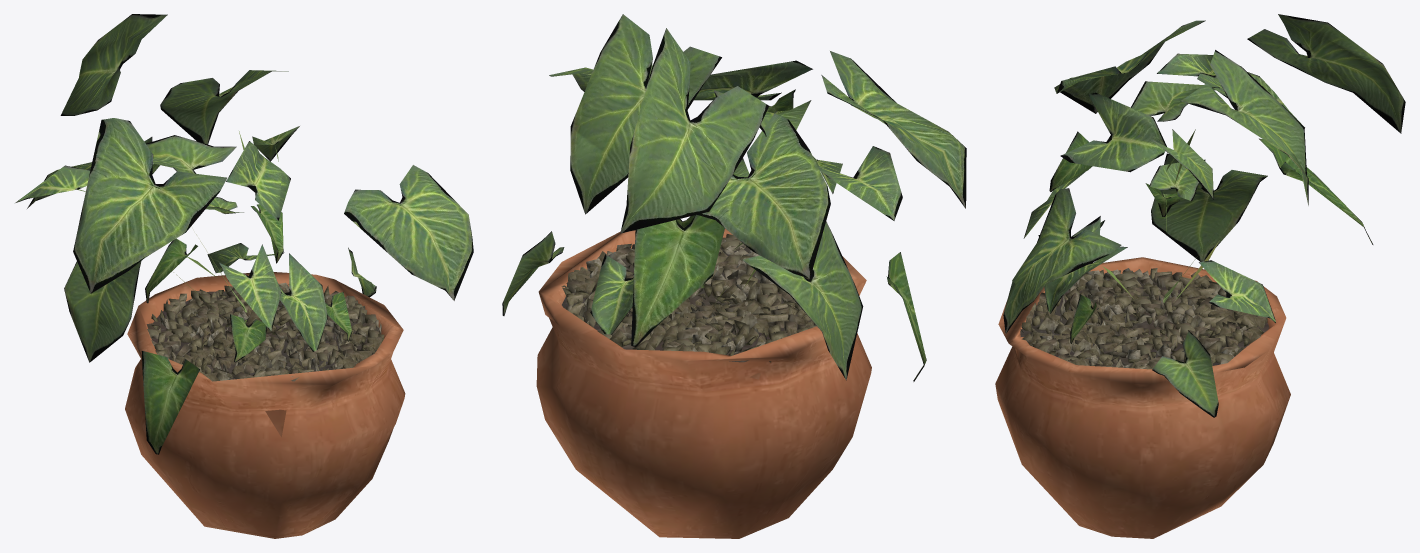
The model's file is plant.glb.
3 renders of one model, left to right at view 1: azimuth 30°, elevation 25°; view 2: azimuth 150°, elevation 25°; view 3: azimuth 270°, elevation 25°, orthographic. The views are drawn at different scales.
Parts seen in each view (by area): view 1: potted_plant_02_leaves, potted_plant_02_pot, potted_plant_02_dirt; view 2: potted_plant_02_leaves, potted_plant_02_pot, potted_plant_02_dirt; view 3: potted_plant_02_leaves, potted_plant_02_pot, potted_plant_02_dirt.
Part boxes in pixels (x1=…): potted_plant_02_leaves: x1=15, y1=14, x2=473, y2=454; potted_plant_02_pot: x1=125, y1=272, x2=405, y2=538; potted_plant_02_dirt: x1=146, y1=282, x2=384, y2=381; potted_plant_02_leaves: x1=502, y1=14, x2=966, y2=381; potted_plant_02_pot: x1=536, y1=228, x2=871, y2=538; potted_plant_02_dirt: x1=561, y1=234, x2=816, y2=362; potted_plant_02_leaves: x1=1003, y1=14, x2=1405, y2=417; potted_plant_02_pot: x1=995, y1=257, x2=1290, y2=538; potted_plant_02_dirt: x1=1020, y1=268, x2=1268, y2=369.
Size of the model in its own units: 0.7009 by 0.8395 by 0.6561.
Materials: 2 (2 with a texture image).
